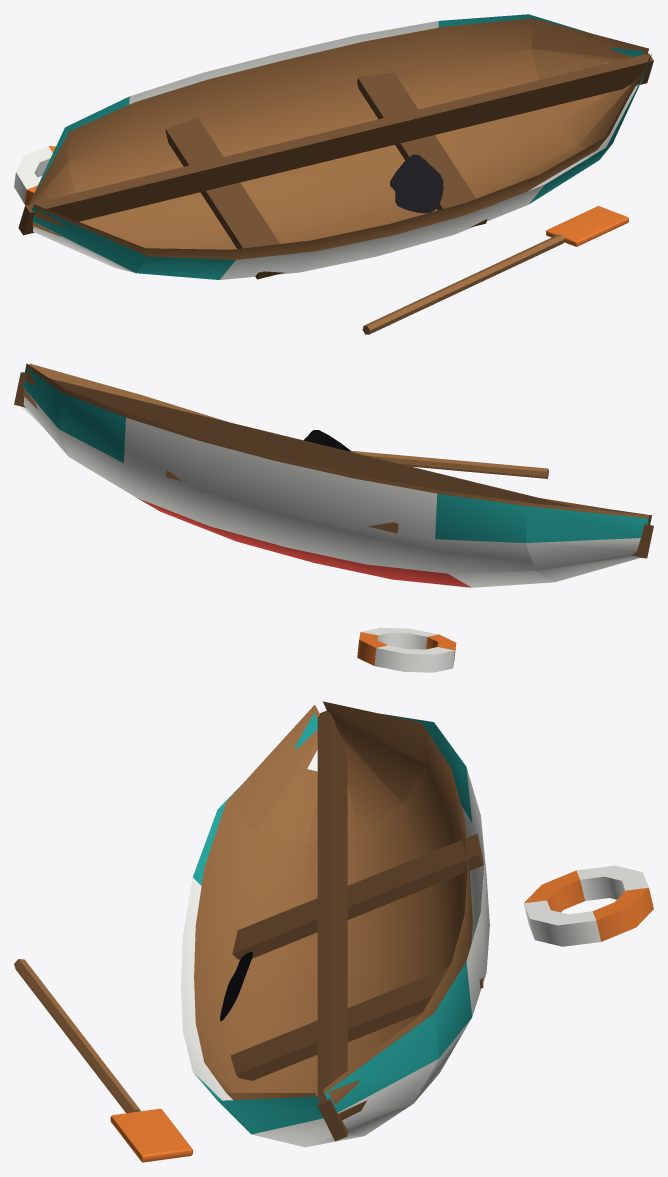
The model's file is Bote.fbx.
3 views of the same model, one above another, from view 1: azimuth 30°, elevation 25°; view 2: azimuth 150°, elevation 25°; view 3: azimuth 270°, elevation 25° (orthographic). The views are drawn at different scales.
Parts seen in each view (by area): view 1: Bote; view 2: Bote; view 3: Bote.
Part boxes in pixels (x1,y1,x2,y2): Bote: (14, 14, 653, 334); Bote: (14, 363, 653, 672); Bote: (14, 701, 653, 1162).
Size of the model in its own units: 10.9 by 2.38 by 7.52.
1 material, 1 textured.
